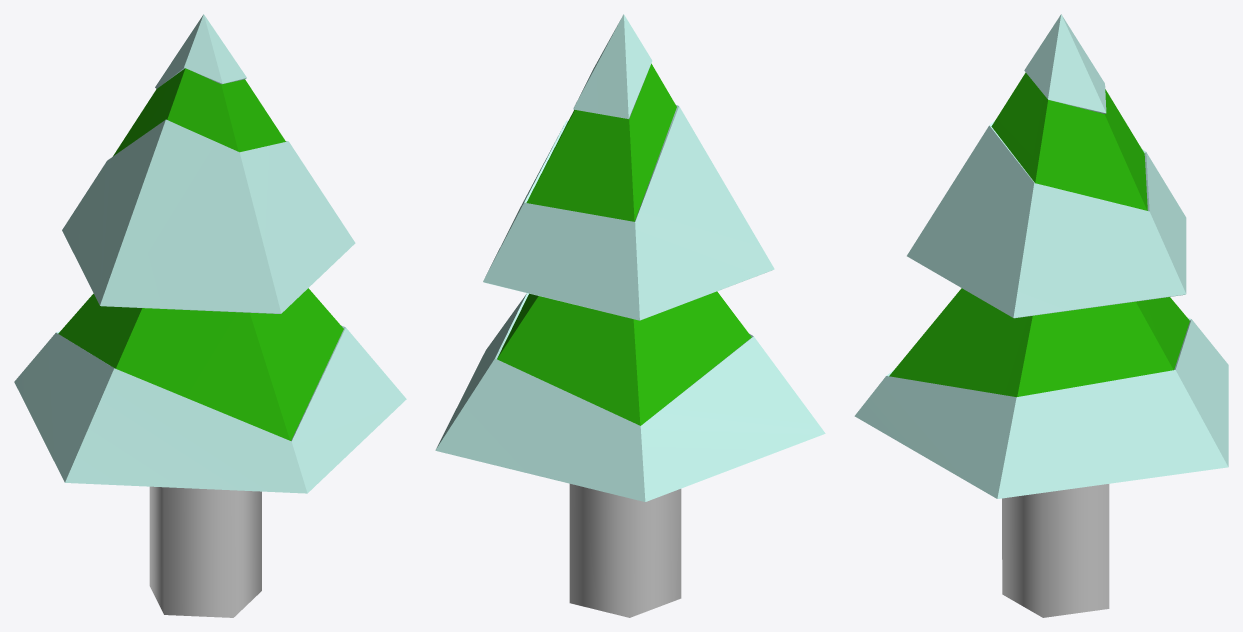
File: Tree8.FBX
3 views of the same model, side by side, from view 1: azimuth 30°, elevation 25°; view 2: azimuth 150°, elevation 25°; view 3: azimuth 270°, elevation 25° (orthographic).
Visible parts, largest first — view 1: Tree8_C, Tree8_a, Tree8_b; view 2: Tree8_C, Tree8_a, Tree8_b; view 3: Tree8_C, Tree8_a, Tree8_b.
Part boxes in pixels (bbox=[...]): Tree8_C: bbox=[14, 14, 406, 493]; Tree8_a: bbox=[58, 68, 343, 440]; Tree8_b: bbox=[149, 486, 261, 617]; Tree8_C: bbox=[435, 14, 825, 501]; Tree8_a: bbox=[497, 63, 751, 425]; Tree8_b: bbox=[569, 484, 681, 617]; Tree8_C: bbox=[854, 14, 1228, 498]; Tree8_a: bbox=[889, 72, 1189, 397]; Tree8_b: bbox=[1002, 484, 1109, 617].
Bounding box in the file's own units: 11212 × 18251 × 10663.
